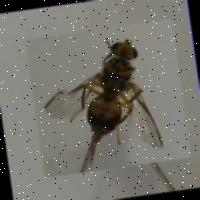Oriental-fruit-fly: (24, 18, 190, 178)
